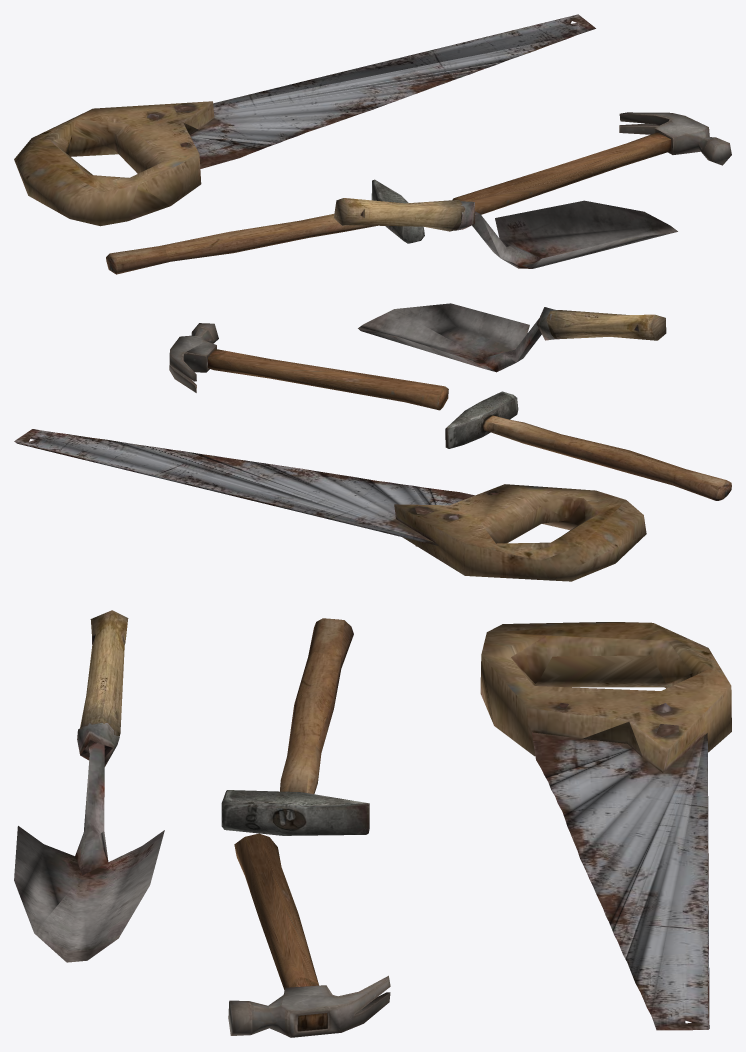
Rendered from HandTools.glb.
3 renders of one model, top to bottom at view 1: azimuth 30°, elevation 25°; view 2: azimuth 150°, elevation 25°; view 3: azimuth 270°, elevation 25°, orthographic. The views are drawn at different scales.
Parts seen in each view (by area): view 1: HandTools; view 2: HandTools; view 3: HandTools.
Part boxes in pixels (box(x1,y1,x2,y2)): HandTools: box(14, 14, 731, 274); HandTools: box(14, 303, 731, 581); HandTools: box(14, 610, 731, 1037).
Size of the model in its own units: 0.6429 by 0.1038 by 0.4783.
Materials: 4 (4 with a texture image).
